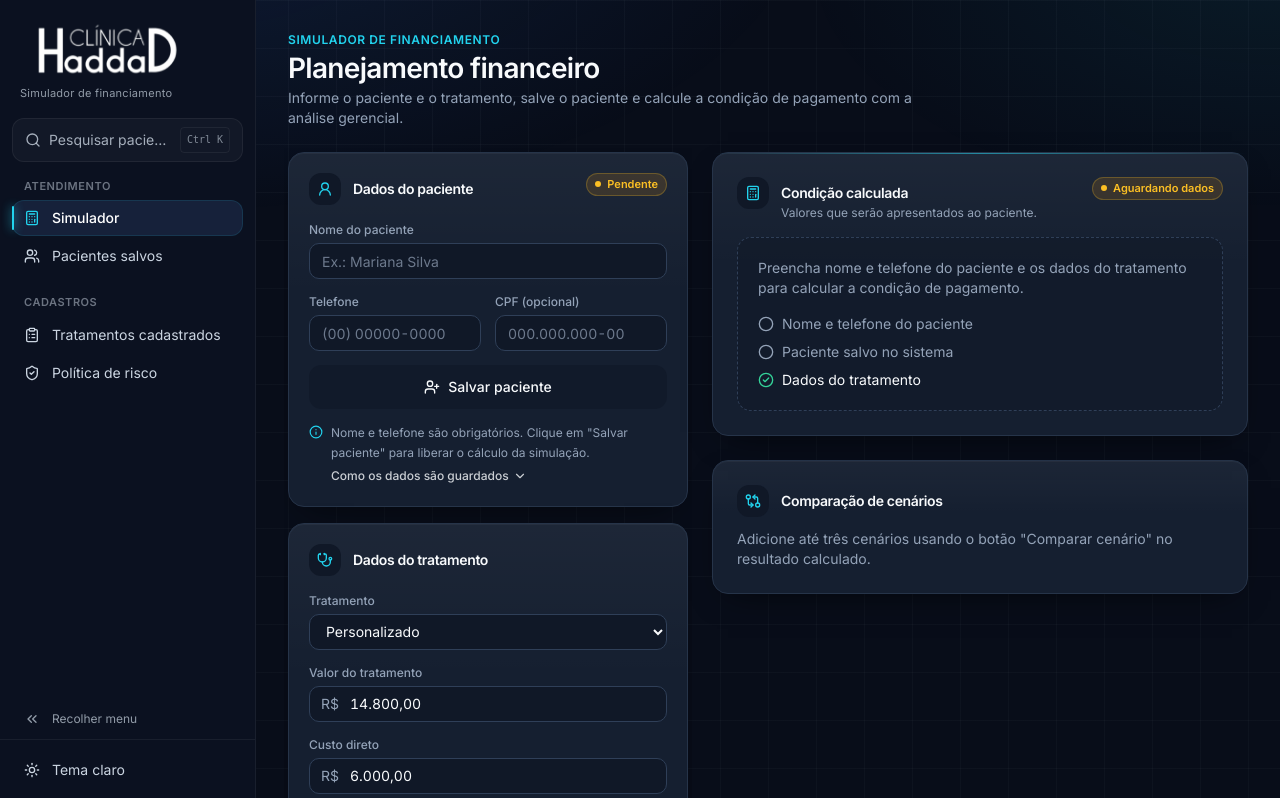
Test: layout — menu lateral, tema e navegação › salvar a política de risco fecha a janela e avisa que foi atualizada
Step 1. Click the button "Política de risco" → (128, 373), box [12,355,243,391]
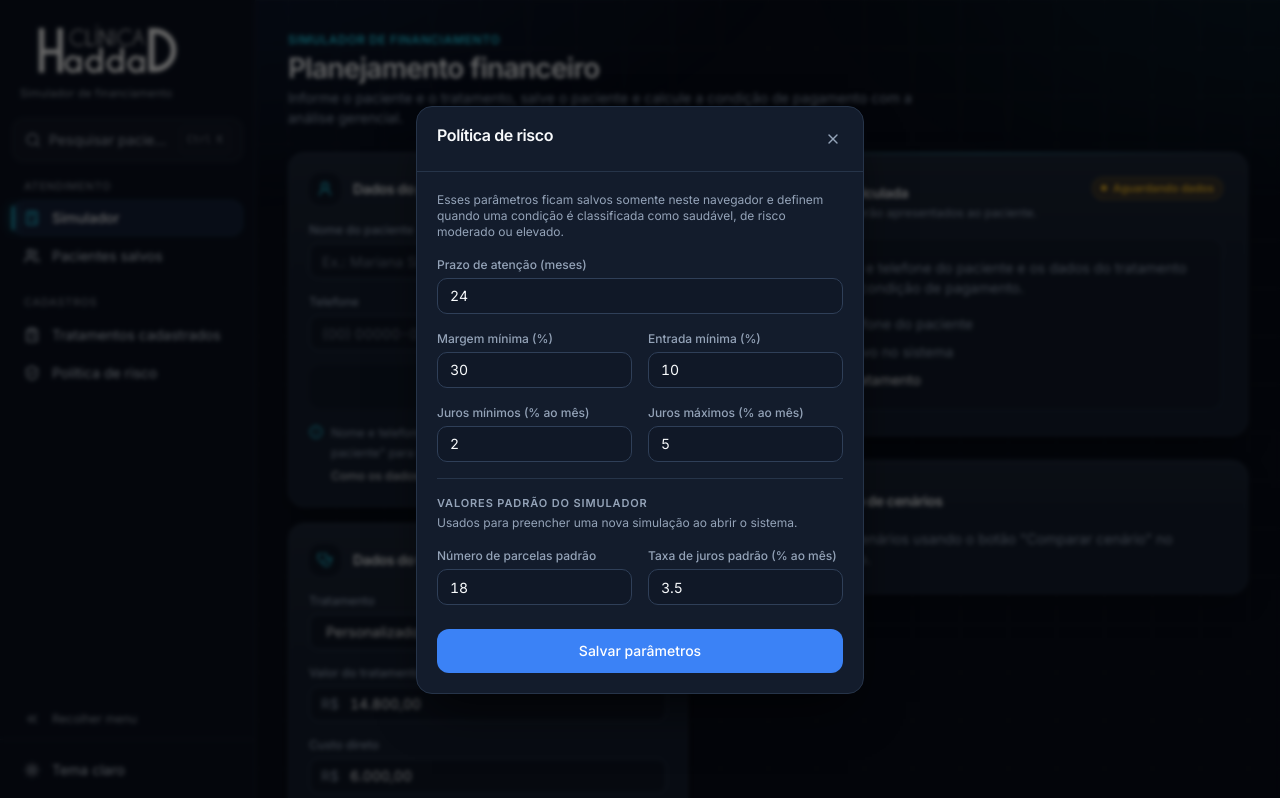
Step 2. Click the button "Salvar parâmetros" → (640, 651), box [437,629,843,673]
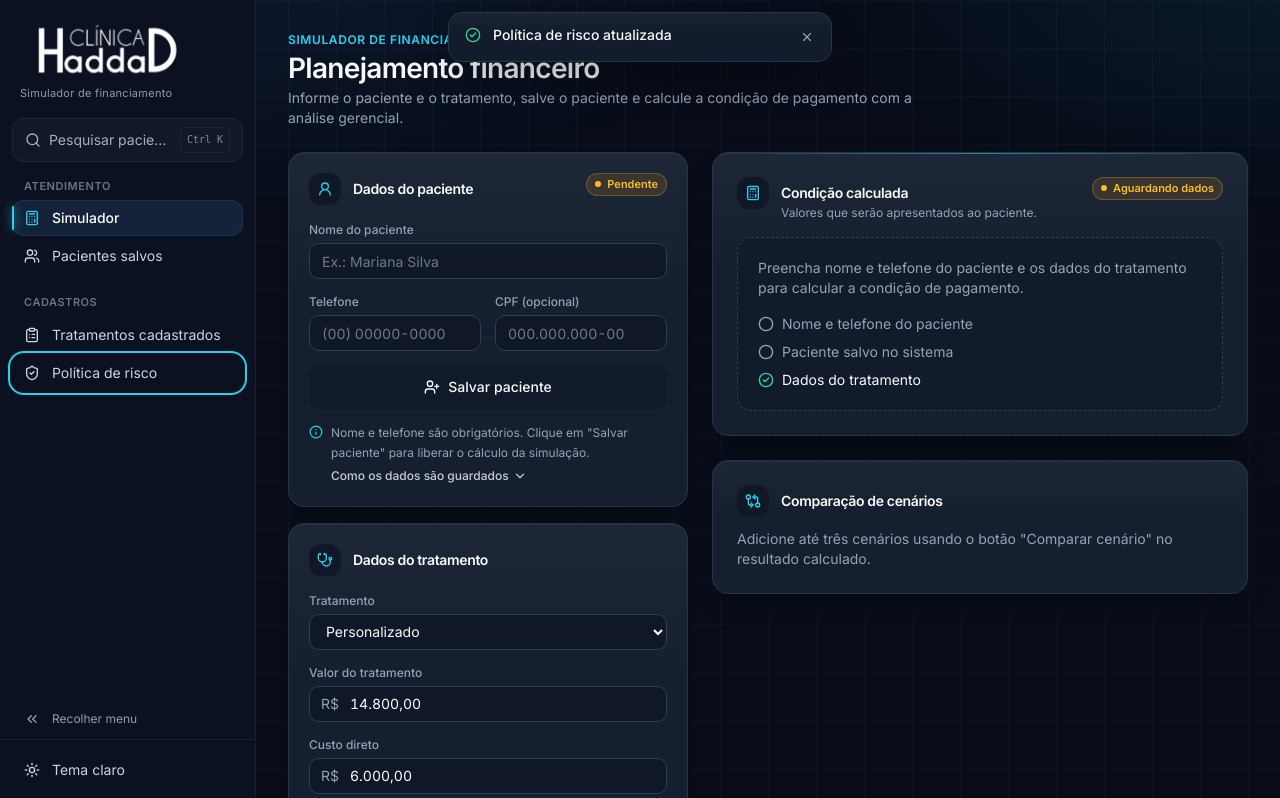
Check: the dialog is gone
Check: the text "Política de risco atualizada" is shown, box [493,26,672,43]
